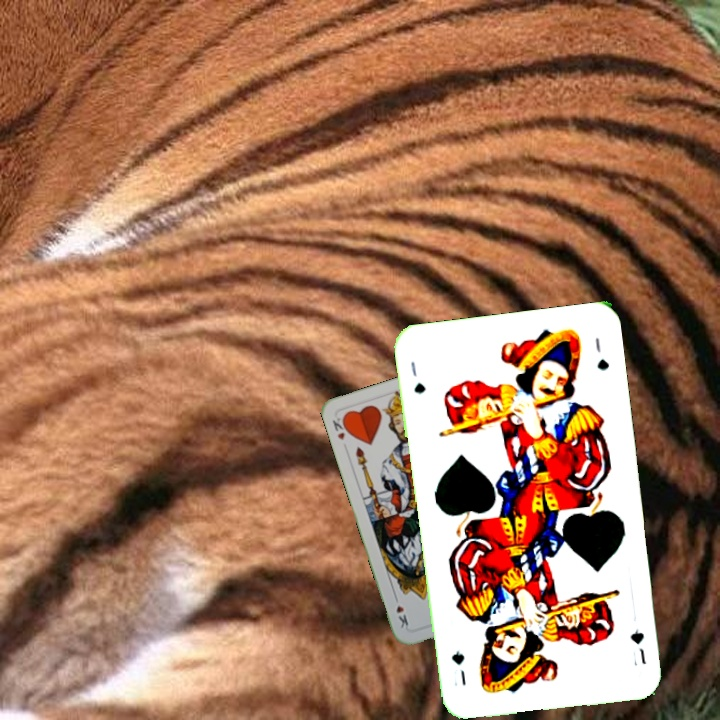GU: (626, 625, 649, 667), (406, 357, 428, 396)
HK: (328, 412, 351, 443)
